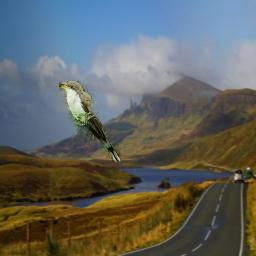Cuckoo: (59, 81, 121, 162)
